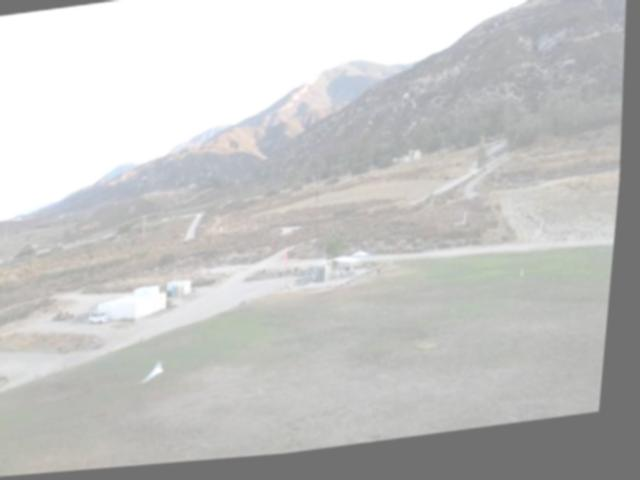iha: (148, 357, 174, 388)
